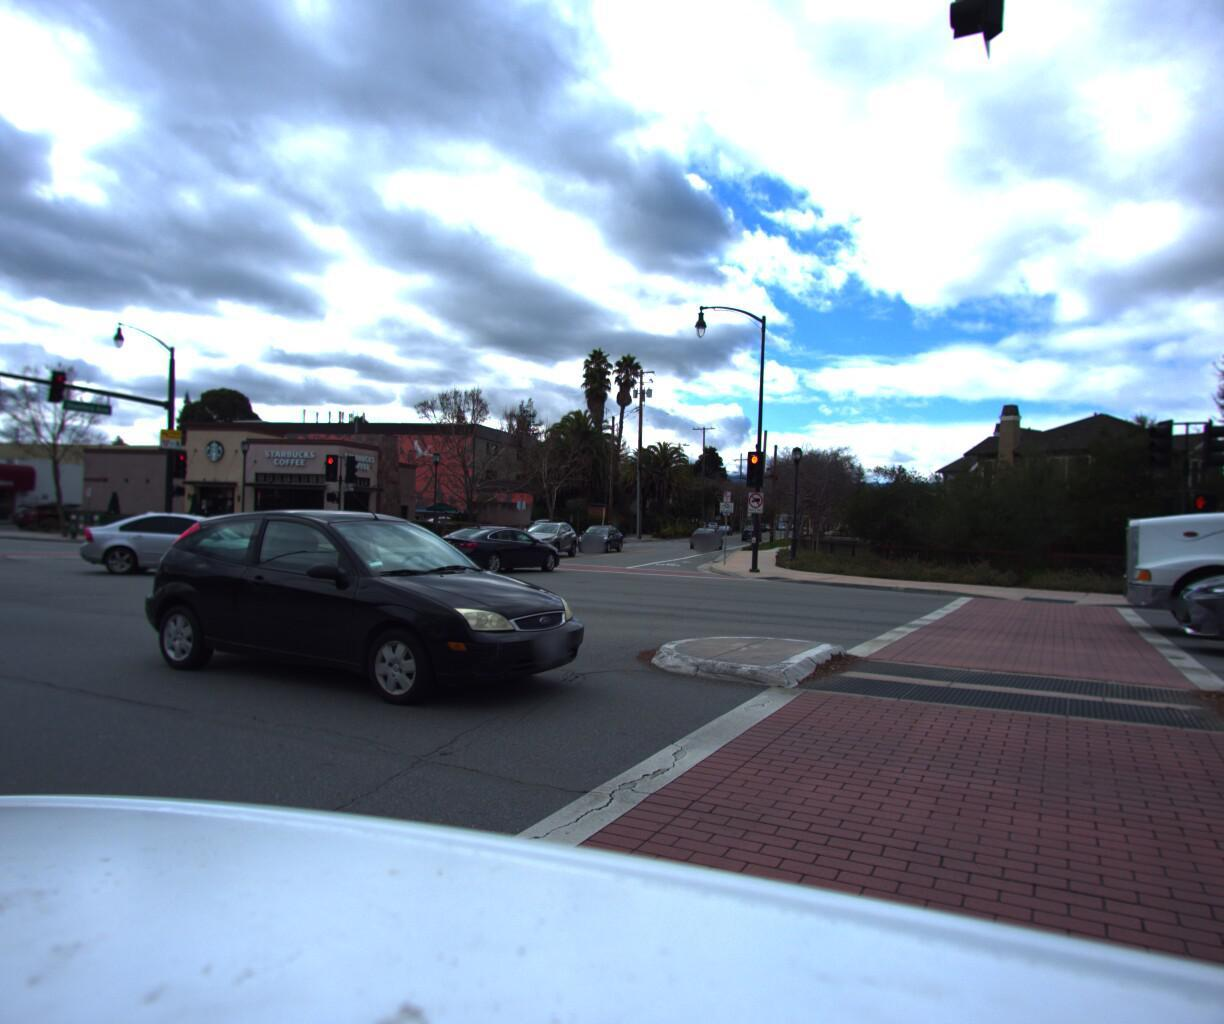car: (128, 490, 609, 723), (74, 503, 288, 575), (1147, 523, 1224, 703), (421, 519, 561, 573), (507, 514, 582, 553), (8, 495, 91, 523), (574, 517, 624, 547), (690, 519, 728, 543), (740, 519, 761, 534)
truck: (1063, 393, 1224, 999)
